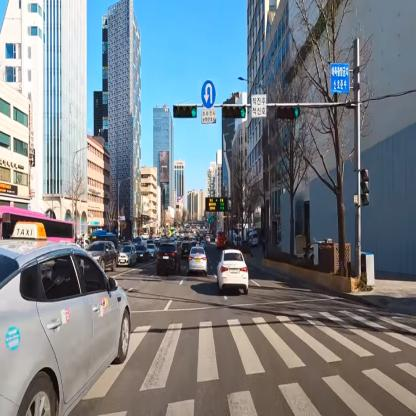Green: (274, 105, 300, 120), (221, 105, 247, 119), (172, 104, 197, 118)
